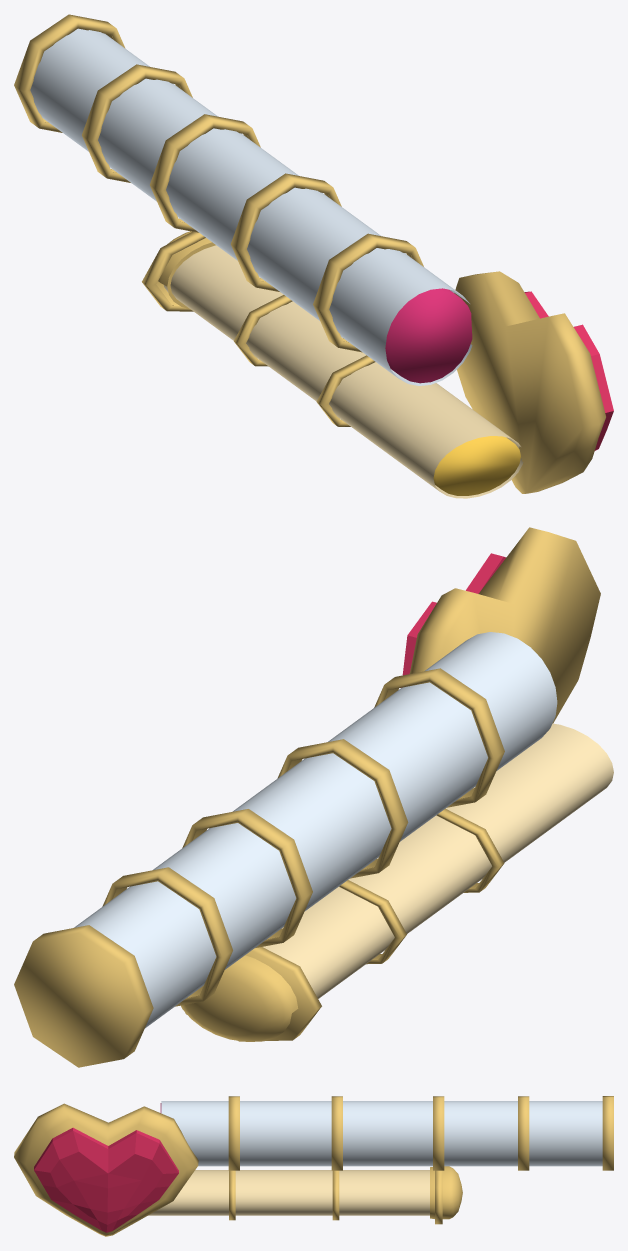
The model's file is Lifebar.fbx.
The picture shows the model from 3 angles, top to bottom: view 1: azimuth 30°, elevation 25°; view 2: azimuth 150°, elevation 25°; view 3: azimuth 270°, elevation 25°; orthographic projection. The views are drawn at different scales.
Parts seen in each view (by area): view 1: HP_Glass, EN_Glass, Frame_Gold, HP_Fluid, EN_Fluid, Ring_HP_5, Ring_HP_4, Ring_HP_2, Ring_HP_3, Ring_HP_1, Ring_EN_3, Heart_Gem (+3 smaller); view 2: HP_Glass, EN_Glass, Frame_Gold, Ring_HP_5, EN_Cap, Ring_HP_2, Ring_HP_4, Ring_HP_3, Ring_HP_1, Ring_EN_3, Ring_EN_1, Ring_EN_2 (+1 smaller); view 3: HP_Glass, EN_Glass, Heart_Gem, Frame_Gold, EN_Cap, Ring_HP_1, Ring_HP_2, Ring_HP_3, Ring_HP_4, Ring_HP_5, Ring_EN_3, Ring_EN_2 (+1 smaller).
Part boxes in pixels (x1,y1,x2,y2): HP_Glass: (30,28,472,385); EN_Glass: (164,245,523,498); Frame_Gold: (454,271,605,493); HP_Fluid: (385,288,472,383); EN_Fluid: (433,436,520,495); Ring_HP_5: (14,14,125,132); Ring_HP_4: (82,64,192,182); Ring_HP_2: (230,173,341,291); Ring_HP_3: (150,114,260,232); Ring_HP_1: (313,233,423,352); Ring_EN_3: (142,231,205,311); Heart_Gem: (524,291,613,450); HP_Glass: (74,632,557,1028); EN_Glass: (263,723,613,998); Frame_Gold: (409,527,600,723); Ring_HP_5: (14,925,153,1067); EN_Cap: (181,955,298,1041); Ring_HP_2: (277,739,408,878); Ring_HP_4: (102,867,232,1006); Ring_HP_3: (182,809,312,947); Ring_HP_1: (374,668,504,807); Ring_EN_3: (185,947,321,1041); Ring_EN_1: (436,808,504,892); Ring_EN_2: (339,880,406,964); HP_Glass: (161,1101,602,1166); EN_Glass: (148,1170,429,1215); Heart_Gem: (34,1127,178,1232); Frame_Gold: (14,1103,198,1236); EN_Cap: (430,1166,462,1219); Ring_HP_1: (228,1096,239,1170); Ring_HP_2: (331,1096,342,1170); Ring_HP_3: (433,1096,444,1170); Ring_HP_4: (518,1096,529,1170); Ring_HP_5: (602,1096,613,1170); Ring_EN_3: (435,1170,442,1224); Ring_EN_2: (332,1170,339,1220).
Bounding box in the file's own units: 178 × 219 × 931.
